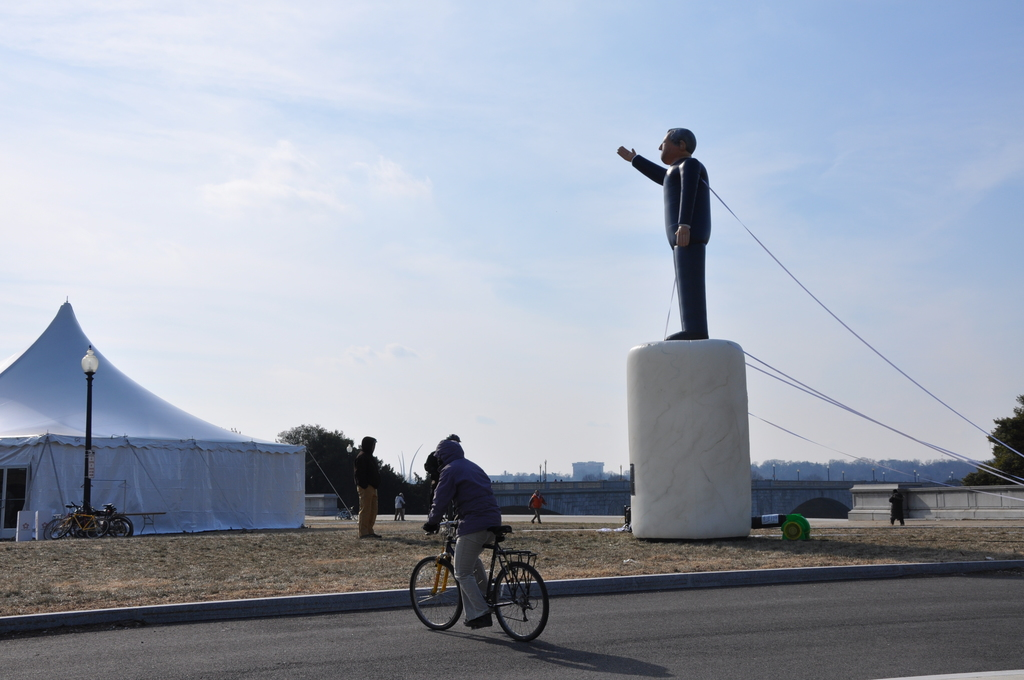Bike_away: (382, 528, 561, 646)
